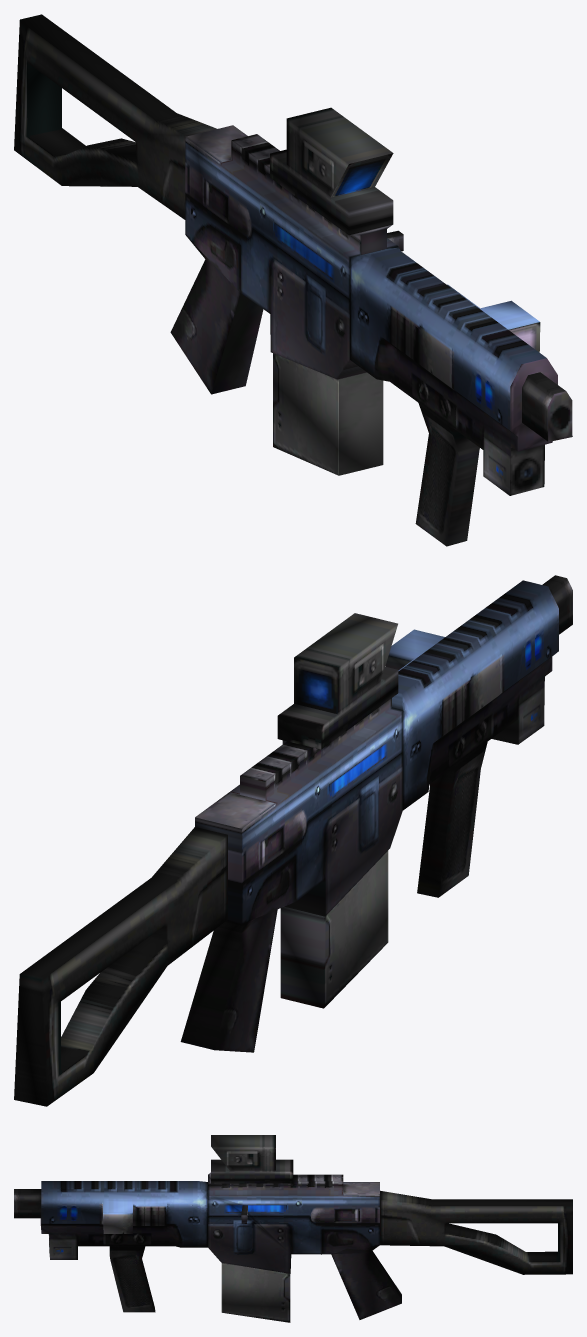
3 views of the same model, one above another, from view 1: azimuth 30°, elevation 25°; view 2: azimuth 150°, elevation 25°; view 3: azimuth 270°, elevation 25° (orthographic). The views are drawn at different scales.
Visible parts, largest first — view 1: Trispread, Trispread01; view 2: Trispread, Trispread01; view 3: Trispread, Trispread01.
Part boxes in pixels (x1=…): Trispread: x1=14, y1=14, x2=572, y2=546; Trispread01: x1=273, y1=353, x2=383, y2=475; Trispread: x1=14, y1=575, x2=572, y2=1106; Trispread01: x1=280, y1=850, x2=388, y2=1008; Trispread: x1=14, y1=1135, x2=572, y2=1319; Trispread01: x1=221, y1=1263, x2=290, y2=1322.
Bounding box in the file's own units: 3.5 × 12.67 × 36.39.
Materials: 1 (1 with a texture image).
